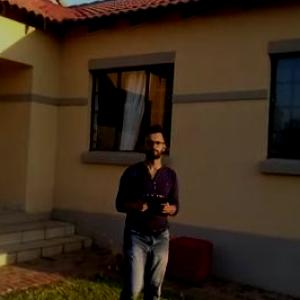follow: (100, 121, 182, 299)
